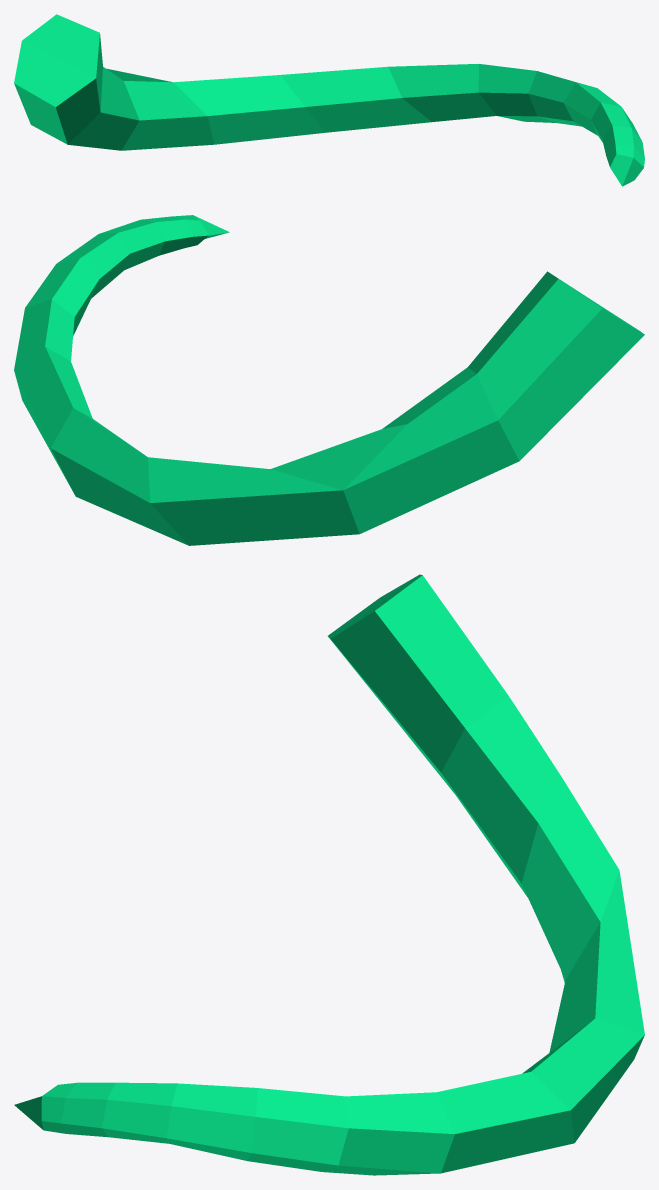
3 renders of one model, top to bottom at view 1: azimuth 30°, elevation 25°; view 2: azimuth 150°, elevation 25°; view 3: azimuth 270°, elevation 25°, orthographic. The views are drawn at different scales.
Parts seen in each view (by area): view 1: Root_04; view 2: Root_04; view 3: Root_04.
Part boxes in pixels (bbox=[...]): Root_04: bbox=[14, 14, 644, 186]; Root_04: bbox=[14, 215, 644, 545]; Root_04: bbox=[14, 574, 644, 1175].
Size of the model in its own units: 376 by 151 by 266.
